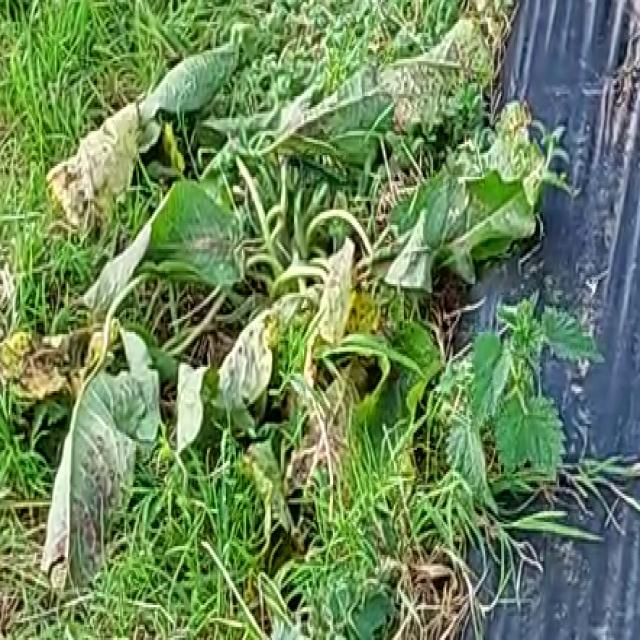organic waste: (35, 35, 514, 581)
